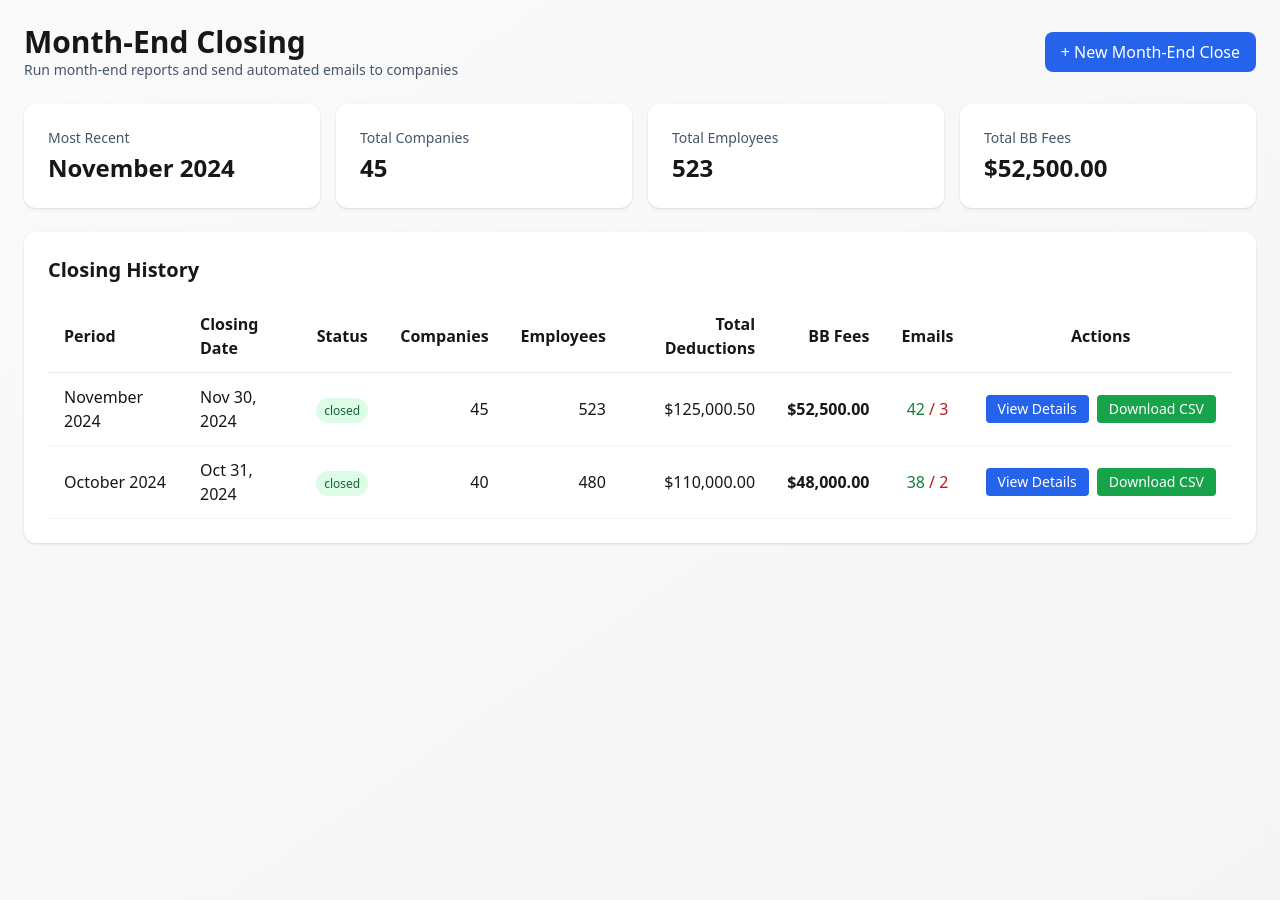
Test case: MonthEndManager Component › New Closing Modal › should close modal when clicking cancel
This screenshot has width=1280, height=900.
Click the button "+ New Month-End Close" at (1150, 52), box [1045,32,1256,72]
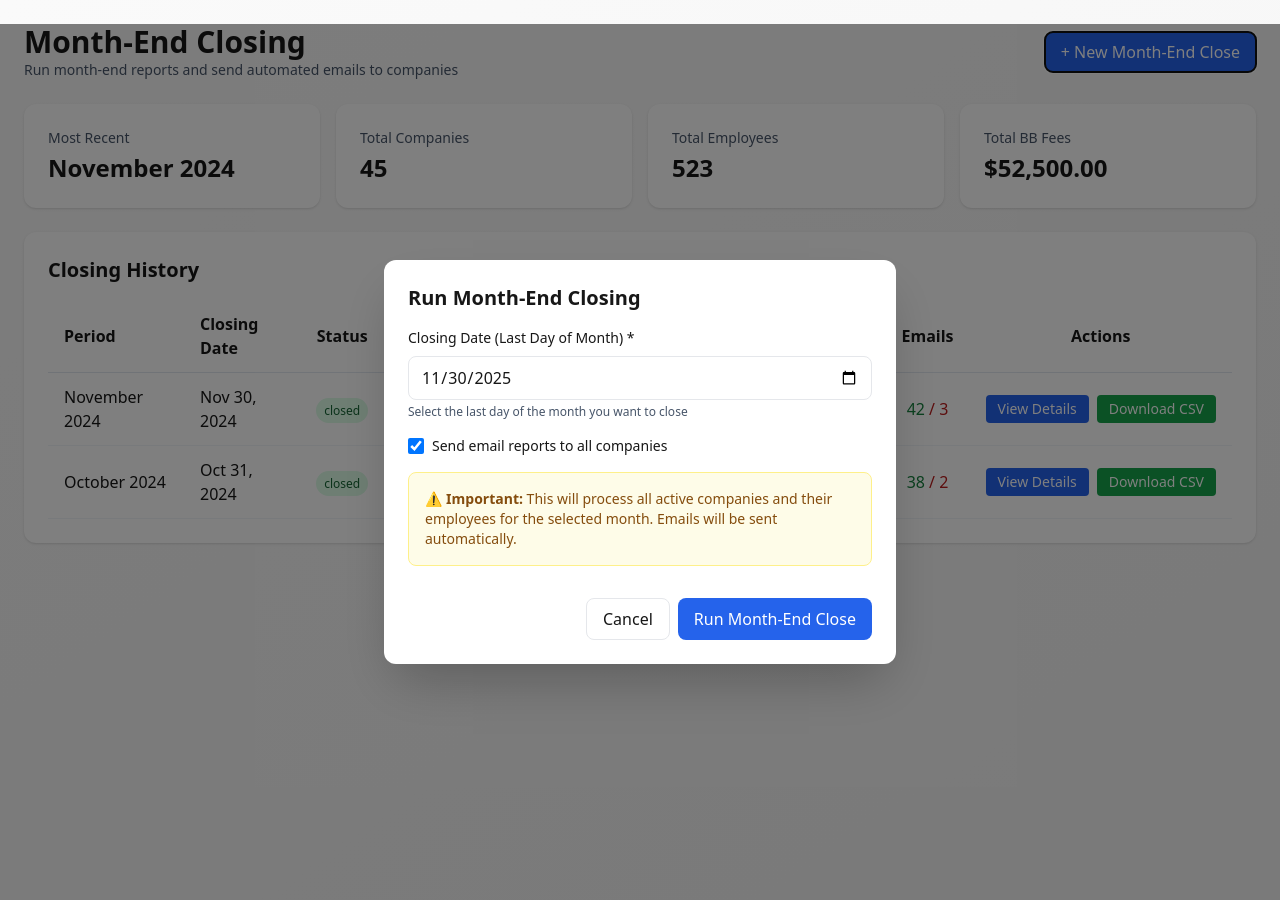
Now the heading "Run Month-End Closing" is shown, box [408,284,641,311]
Click the button "Cancel" at (628, 619), box [586,598,670,640]
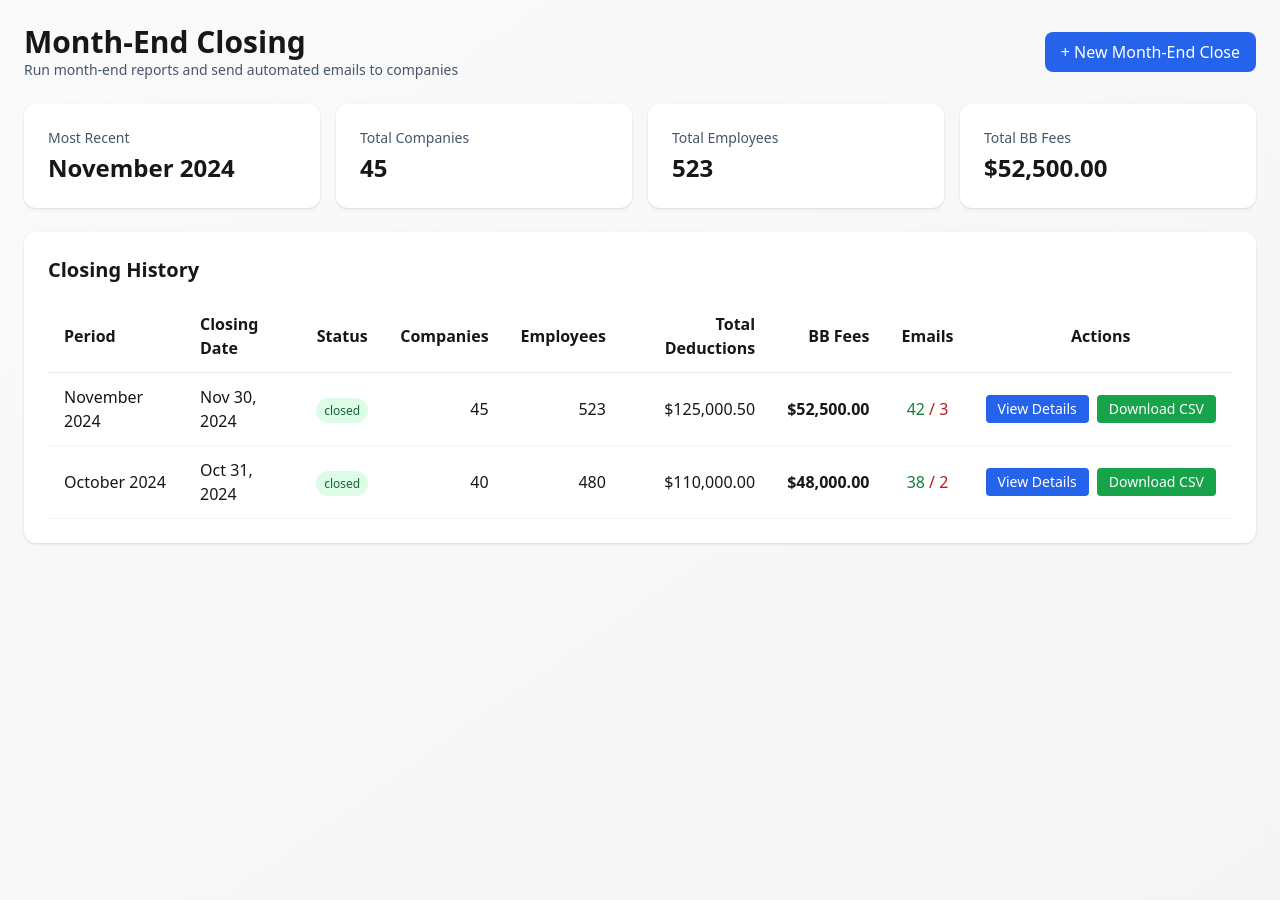
Now the heading "Run Month-End Closing" is gone
